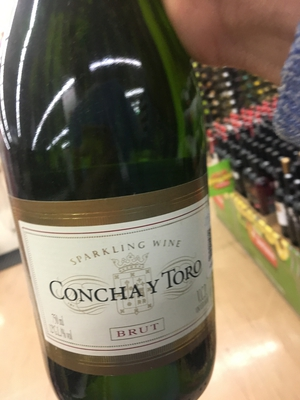brut: (1, 10, 229, 400)
